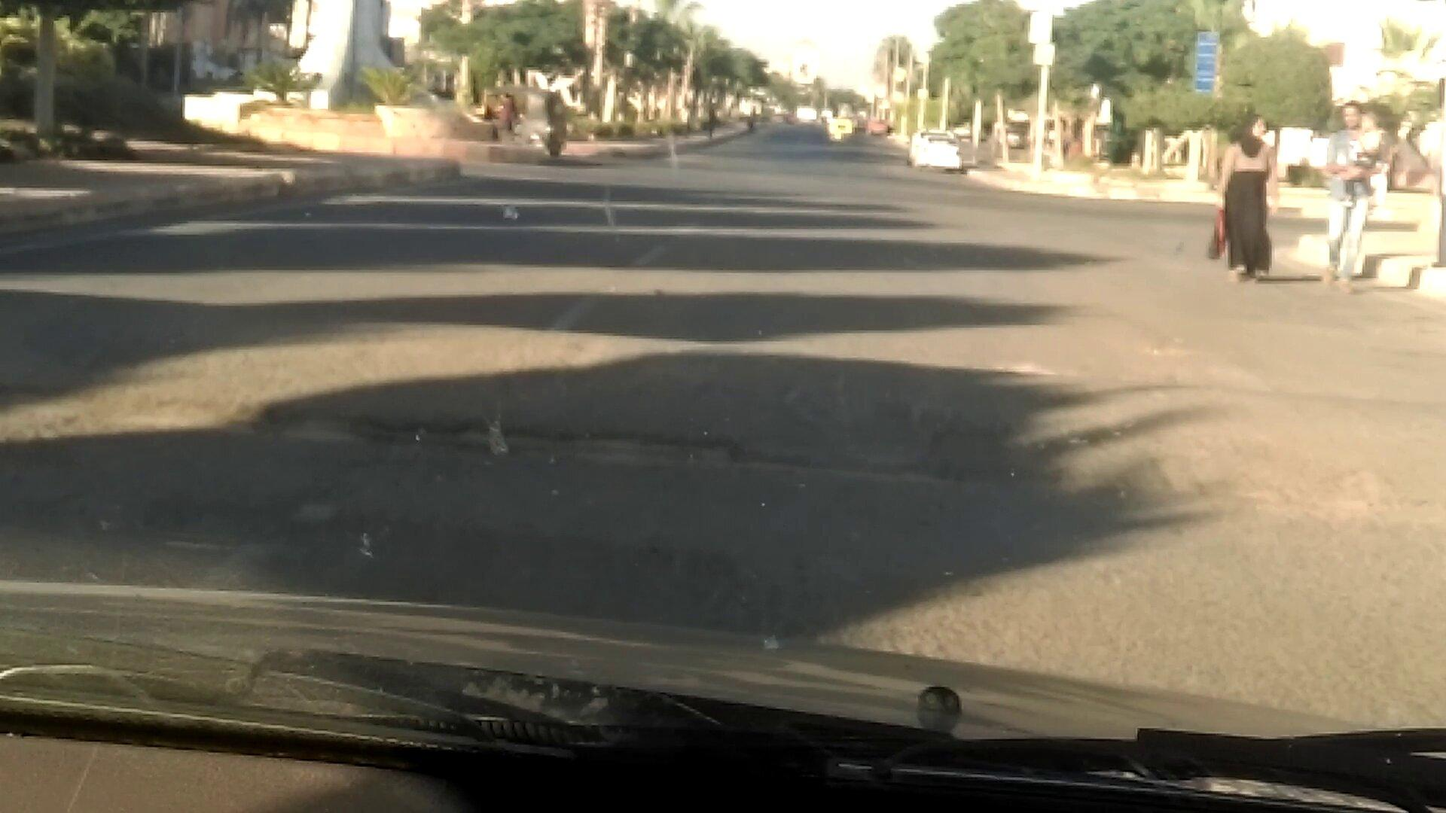Bump: (0, 287, 1445, 509)
